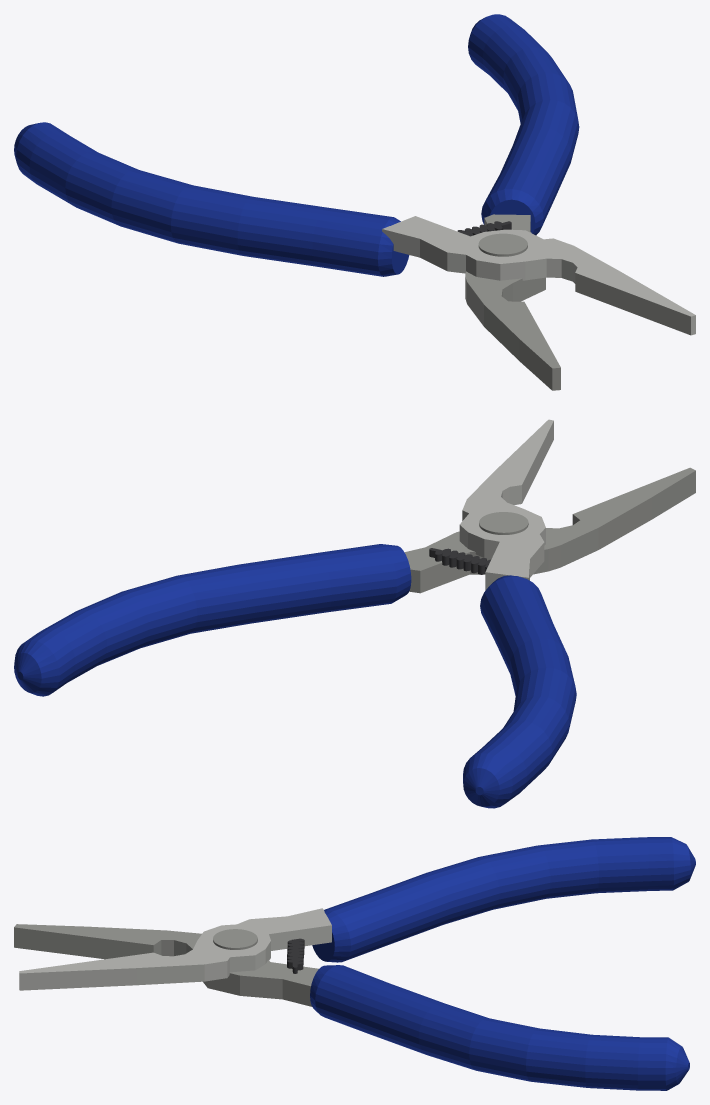
Rendered from working.glb.
3 renders of one model, top to bottom at view 1: azimuth 30°, elevation 25°; view 2: azimuth 150°, elevation 25°; view 3: azimuth 270°, elevation 25°, orthographic. The views are drawn at different scales.
Visible parts, largest first — view 1: Right blue grip, Left blue grip, Left long jaw and right tang, Right long jaw and left tang, Pivot face; view 2: Left blue grip, Right blue grip, Right long jaw and left tang, Left long jaw and right tang, Pivot face, Coil return spring; view 3: Left blue grip, Right blue grip, Left long jaw and right tang, Right long jaw and left tang, Pivot face, Coil return spring.
Boxes of the visible parts, x1,y1,x2,y2 form: Right blue grip: (14, 122, 409, 276); Left blue grip: (468, 14, 579, 235); Left long jaw and right tang: (382, 216, 695, 335); Right long jaw and left tang: (465, 214, 560, 390); Pivot face: (478, 233, 527, 256); Left blue grip: (14, 544, 411, 696); Right blue grip: (463, 575, 576, 808); Right long jaw and left tang: (404, 467, 695, 593); Left long jaw and right tang: (459, 419, 553, 590); Pivot face: (479, 512, 528, 534); Coil return spring: (429, 548, 490, 574); Left blue grip: (310, 965, 689, 1090); Right blue grip: (312, 837, 695, 962); Left long jaw and right tang: (19, 908, 331, 990); Right long jaw and left tang: (14, 924, 318, 1006); Pivot face: (213, 929, 257, 949); Coil return spring: (287, 938, 304, 973).
Bounding box in the file's own units: 0.0913 × 0.0095 × 0.1187.
